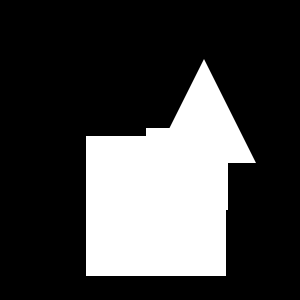circle: (86, 136, 226, 276), (146, 128, 228, 210)
triangle: (152, 59, 256, 163)
